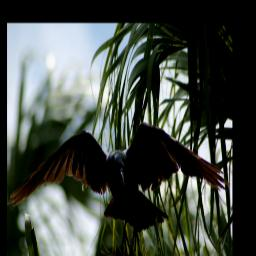Crow: (8, 120, 227, 254)
